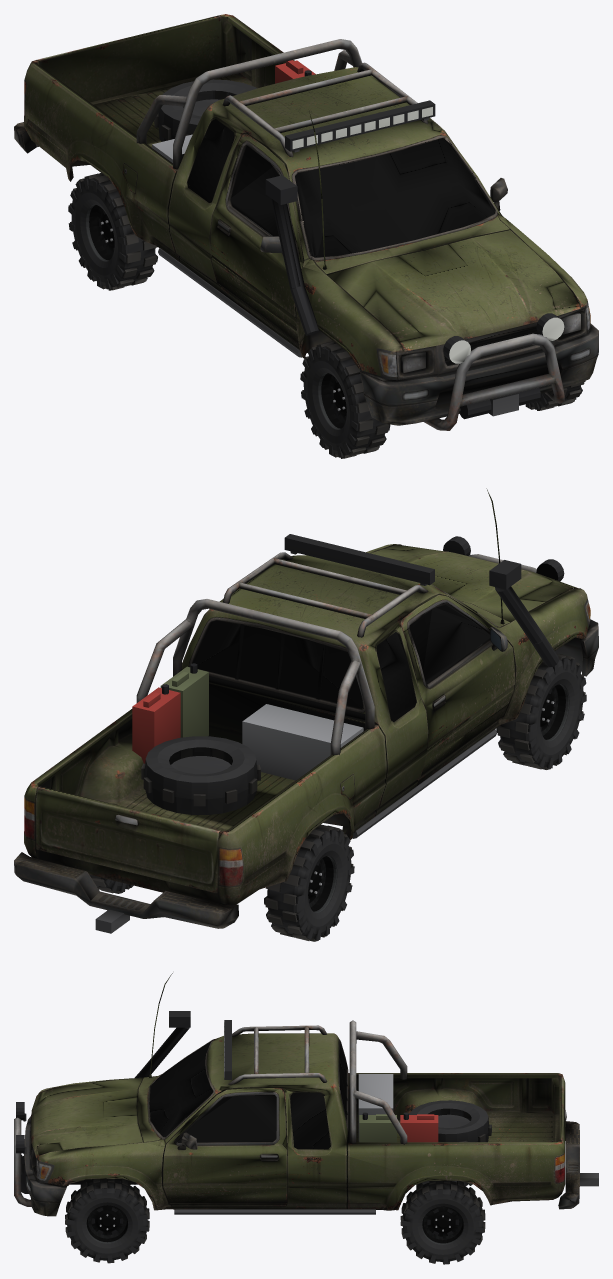
The model's file is pickup_truck.lod0-B0KvTbpc.glb.
3 views of the same model, one above another, from view 1: azimuth 30°, elevation 25°; view 2: azimuth 150°, elevation 25°; view 3: azimuth 270°, elevation 25° (orthographic). The views are drawn at different scales.
Visible parts, largest first — view 1: pickup body_vehicle_0.001, pickup body_windowss_0.001, acc_pickup, door_FR_pic.001, wheel_RR, wheel_FR, wheel_FL, door_FL_pic.001; view 2: pickup body_vehicle_0.001, acc_pickup, door_FR_pic.001, pickup body_windowss_0.001, wheel_RR, wheel_FR; view 3: pickup body_vehicle_0.001, door_FL_pic.001, acc_pickup, pickup body_windowss_0.001, wheel_FL, wheel_RL.
Boxes of the visible parts, <box> form: pickup body_vehicle_0.001: <box>14,14,598,430</box>; pickup body_windowss_0.001: <box>187,119,494,257</box>; acc_pickup: <box>152,60,564,419</box>; door_FR_pic.001: <box>209,146,314,344</box>; wheel_RR: <box>68,173,157,290</box>; wheel_FR: <box>300,341,390,458</box>; wheel_FL: <box>525,381,585,410</box>; door_FL_pic.001: <box>446,133,507,217</box>; pickup body_vehicle_0.001: <box>14,488,598,928</box>; acc_pickup: <box>95,534,564,933</box>; door_FR_pic.001: <box>405,597,514,779</box>; pickup body_windowss_0.001: <box>193,605,471,722</box>; wheel_RR: <box>264,824,354,941</box>; wheel_FR: <box>496,653,586,769</box>; pickup body_vehicle_0.001: <box>14,973,579,1216</box>; door_FL_pic.001: <box>163,1094,287,1206</box>; acc_pickup: <box>16,1011,598,1214</box>; pickup body_windowss_0.001: <box>149,1040,346,1149</box>; wheel_FL: <box>65,1179,149,1263</box>; wheel_RL: <box>400,1181,485,1264</box>.
Bounding box in the file's own units: 2.2 × 2.61 × 6.21.
5 materials, 2 textured.
